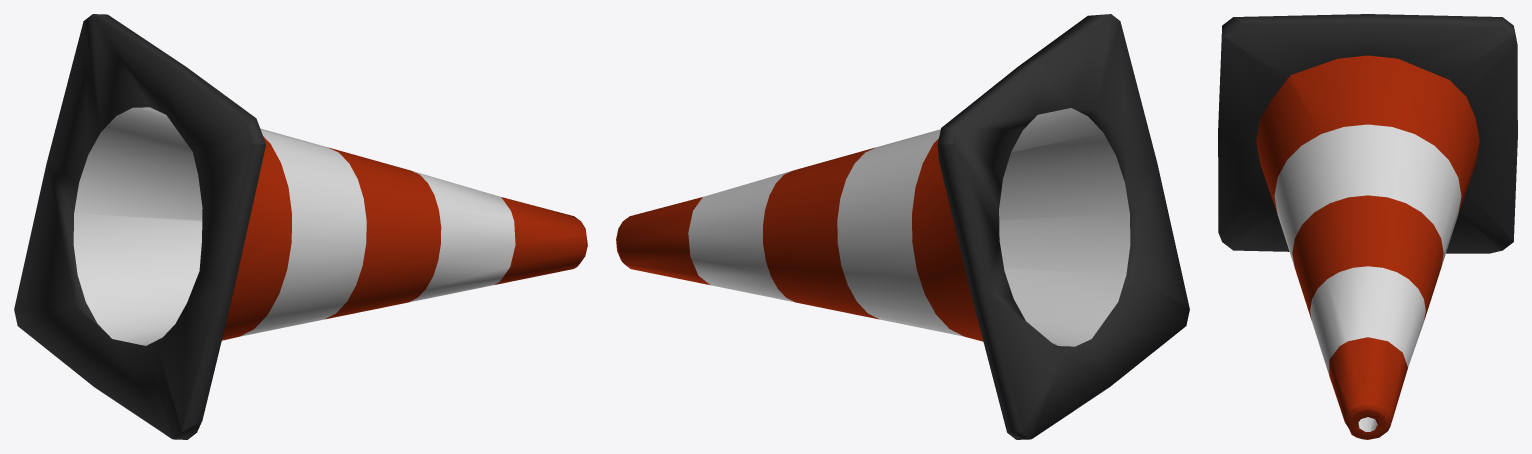
Rendered from Traffic cone hazard.fbx.
The picture shows the model from 3 angles, left to right: view 1: azimuth 30°, elevation 25°; view 2: azimuth 150°, elevation 25°; view 3: azimuth 270°, elevation 25°; orthographic projection. The views are drawn at different scales.
Visible parts, largest first — view 1: Traffic cone; view 2: Traffic cone; view 3: Traffic cone.
Boxes of the visible parts, <box> form: Traffic cone: <box>14,14,587,439</box>; Traffic cone: <box>616,14,1189,439</box>; Traffic cone: <box>1218,14,1517,439</box>.
Bounding box in the file's own units: 49.18 × 29.55 × 30.17.
